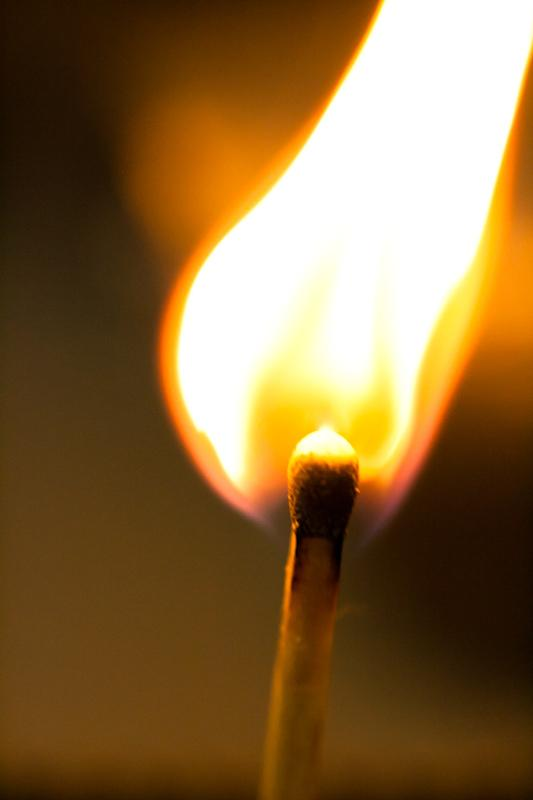fire: (204, 206, 442, 438), (356, 20, 506, 200)
